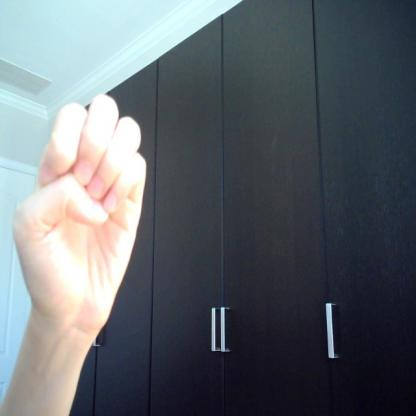E: (13, 94, 148, 340)
